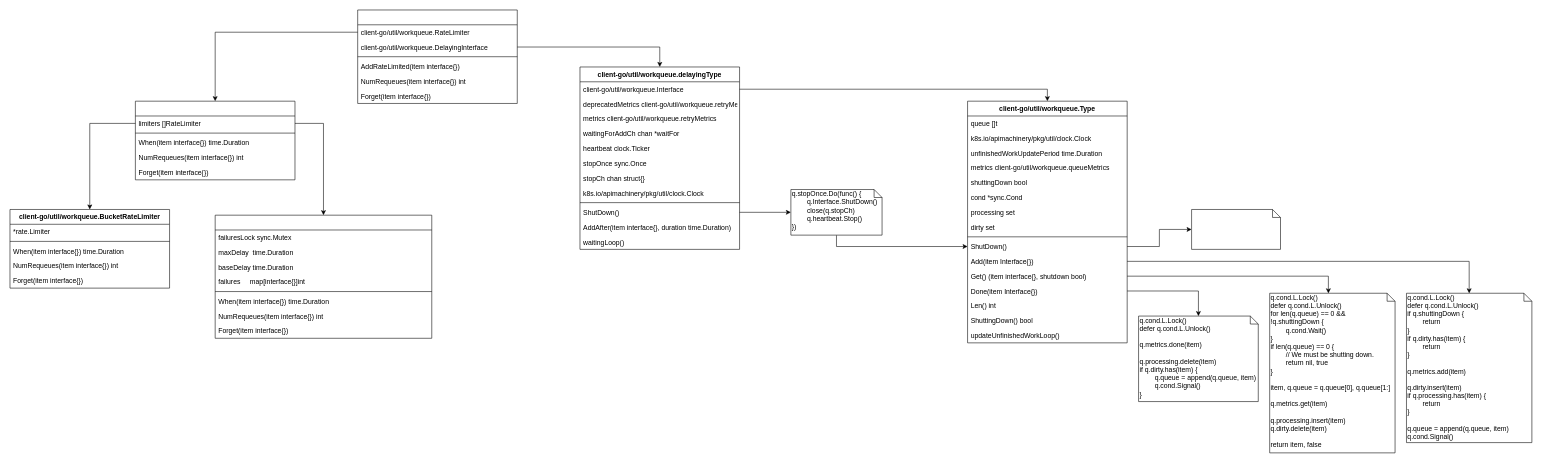
This 1542x463 diagram has some shape labels left out. Here are the shapes that lost their labels. From the top down, the box of each, then its label:
(357, 9, 517, 103): client-go/util/workqueue.rateLimitingType
(135, 101, 295, 180): client-go/util/workqueue.MaxOfRateLimiter
(1191, 209, 1281, 249): q.cond.L.Lock() defer q.cond.L.Unlock() q.shuttingDown = true q.cond.Broadcast()
(215, 215, 432, 338): client-go/util/workqueue.ItemExponentialFailureRateLimiter
